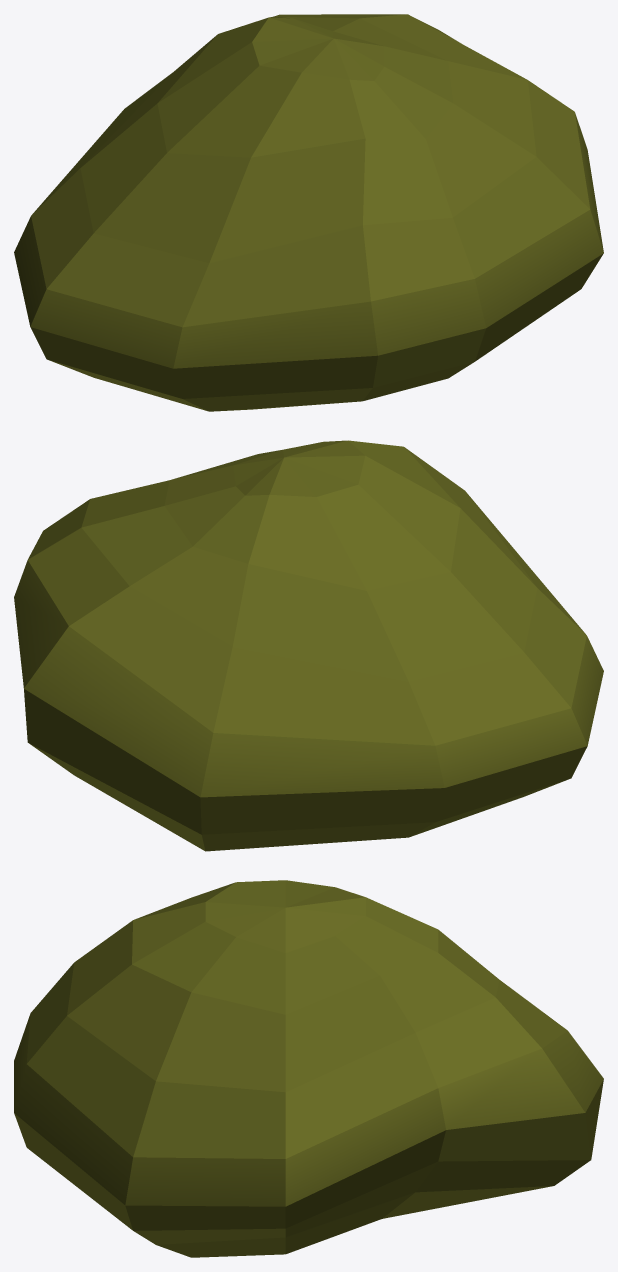
Rendered from bush03.fbx.
The picture shows the model from 3 angles, top to bottom: view 1: azimuth 30°, elevation 25°; view 2: azimuth 150°, elevation 25°; view 3: azimuth 270°, elevation 25°; orthographic projection.
Visible parts, largest first — view 1: polySurface10; view 2: polySurface10; view 3: polySurface10.
Boxes of the visible parts, x1,y1,x2,y2 form: polySurface10: [14, 14, 603, 411]; polySurface10: [14, 440, 603, 851]; polySurface10: [14, 880, 603, 1257].
Bounding box in the file's own units: 2.68 × 1.46 × 2.44.
